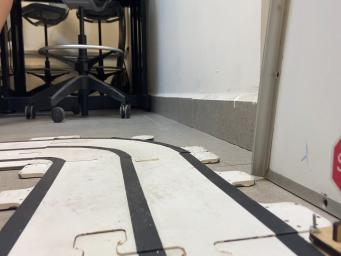stop: (330, 135, 341, 194), (330, 135, 341, 194)
street: (0, 138, 323, 255), (0, 138, 323, 255)
